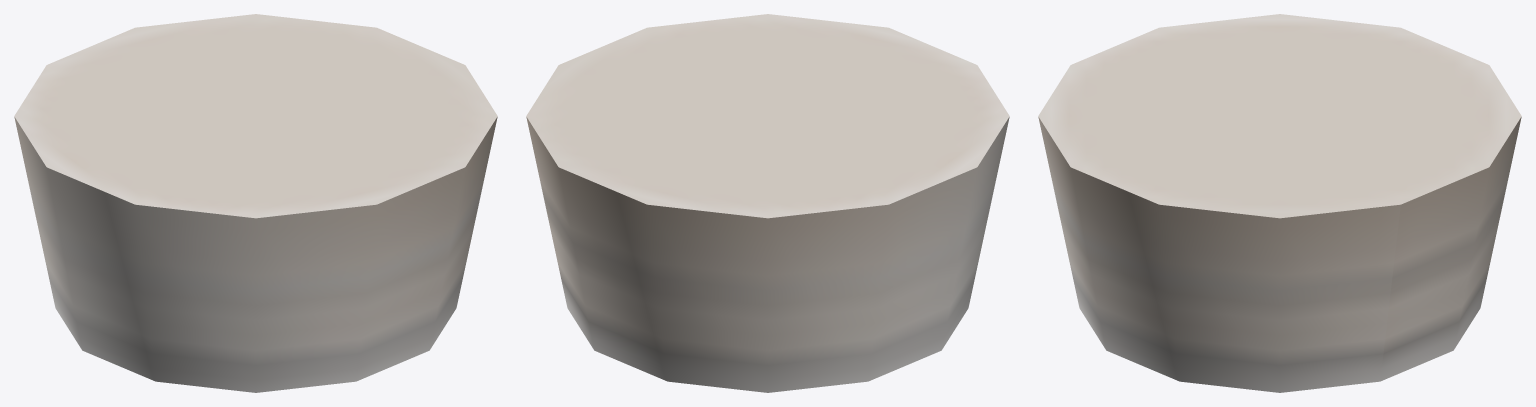
The model's file is set_ceiling_parts_01_05.fbx.
The picture shows the model from 3 angles, left to right: view 1: azimuth 30°, elevation 25°; view 2: azimuth 150°, elevation 25°; view 3: azimuth 270°, elevation 25°; orthographic projection.
Visible parts, largest first — view 1: set_ceiling_parts_01_05; view 2: set_ceiling_parts_01_05; view 3: set_ceiling_parts_01_05.
Boxes of the visible parts, <box> form: set_ceiling_parts_01_05: <box>14,14,497,392</box>; set_ceiling_parts_01_05: <box>526,14,1009,392</box>; set_ceiling_parts_01_05: <box>1038,14,1521,392</box>.
Size of the model in its own units: 11.7 by 6.17 by 11.7.
